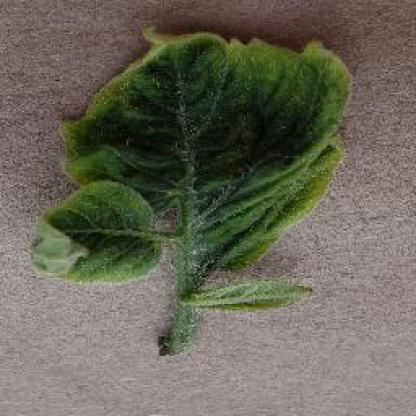bad leaf: (29, 6, 372, 368)
